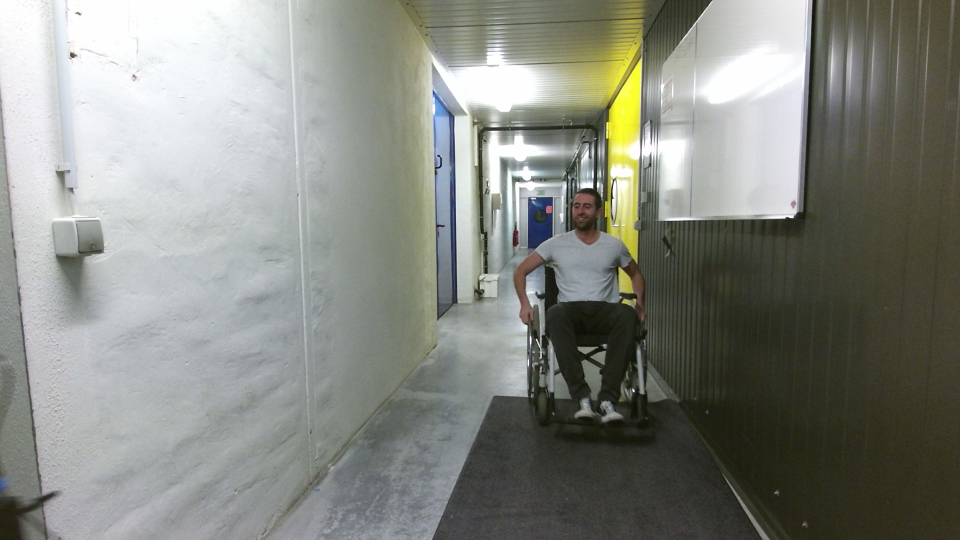wheelchair: (511, 188, 658, 453)
